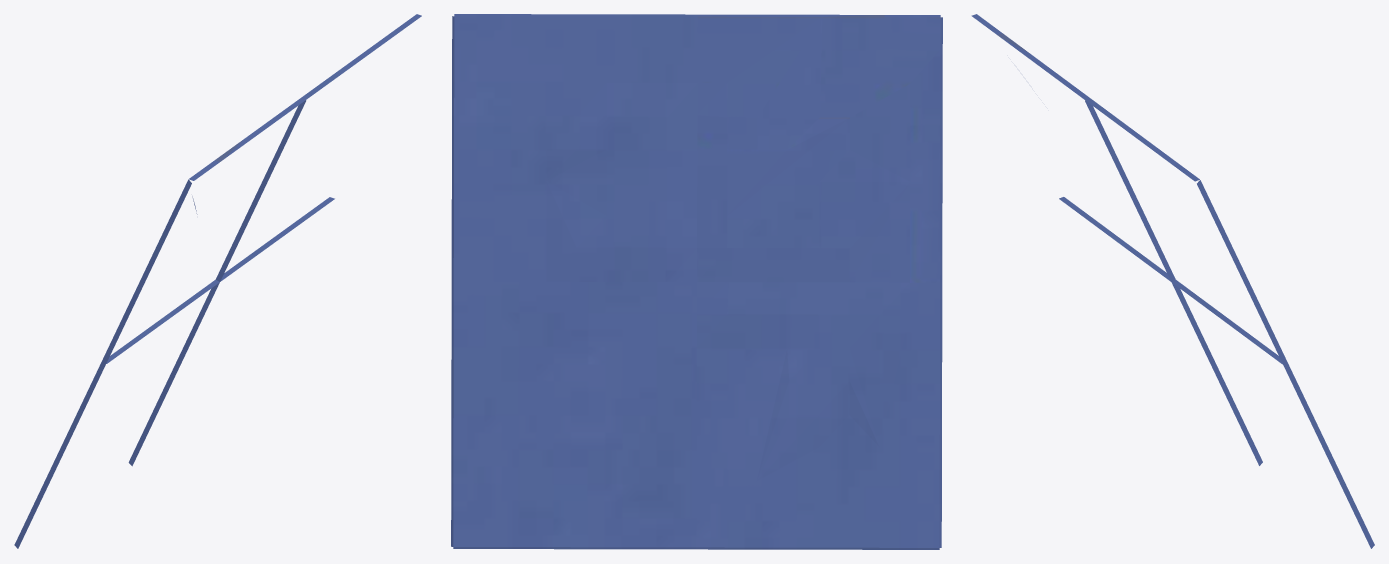
The picture shows the model from 3 angles, left to right: view 1: azimuth 30°, elevation 25°; view 2: azimuth 150°, elevation 25°; view 3: azimuth 270°, elevation 25°; orthographic projection. The views are drawn at different scales.
Bounding box in the file's own units: 39466 × 36112 × 32138.
1 material, 1 textured.
